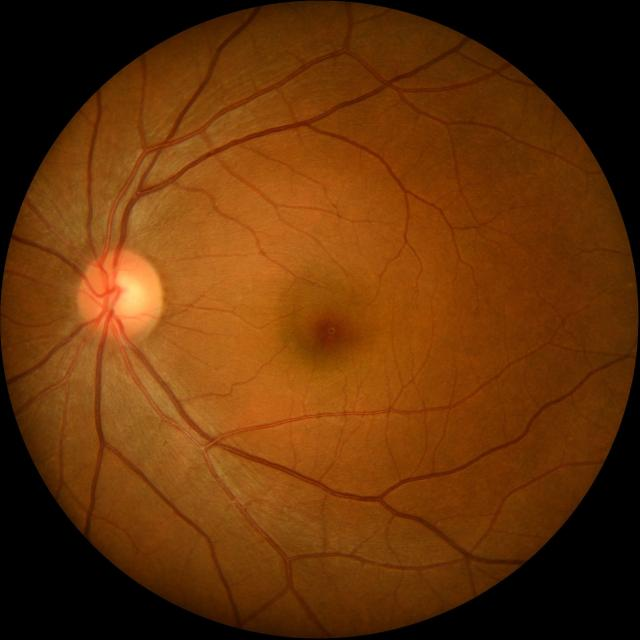OC: (104, 274, 142, 316)
OD: (76, 252, 162, 340)
